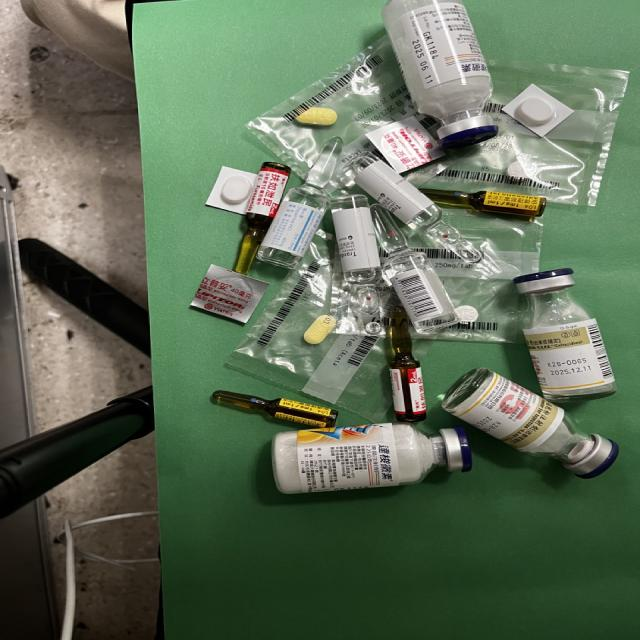Ampoules: (343, 151, 482, 265), (255, 136, 342, 269), (370, 203, 457, 332), (331, 195, 381, 336), (233, 162, 290, 274), (212, 390, 338, 428), (389, 306, 426, 422), (420, 188, 546, 218)
Vials: (441, 368, 618, 478), (382, 0, 498, 150), (271, 423, 470, 494), (513, 268, 616, 404)
